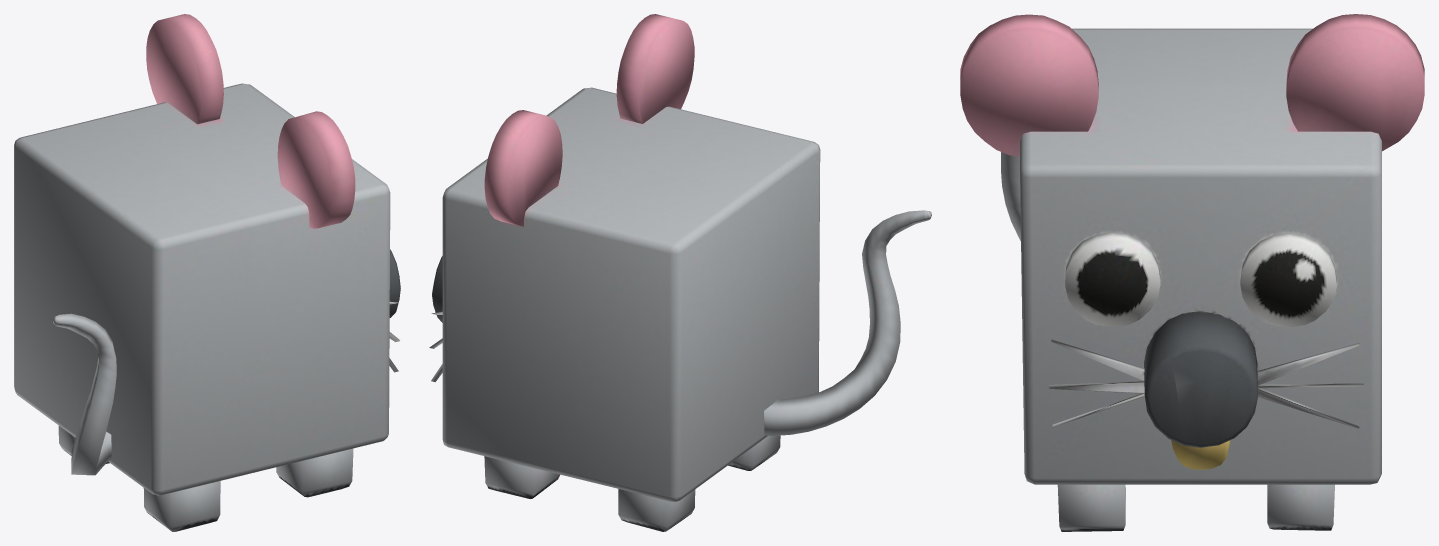
File: tripo_convert_c080552a-9220-4db1-a45e-d94be0dff369.fbx
3 views of the same model, side by side, from view 1: azimuth 30°, elevation 25°; view 2: azimuth 150°, elevation 25°; view 3: azimuth 270°, elevation 25° (orthographic). The views are drawn at different scales.
Parts seen in each view (by area): view 1: tripo_node_c080552a; view 2: tripo_node_c080552a; view 3: tripo_node_c080552a.
Part boxes in pixels (x1,y1,x2,y2): tripo_node_c080552a: (14, 14, 400, 531); tripo_node_c080552a: (429, 14, 931, 531); tripo_node_c080552a: (960, 14, 1424, 531).
Size of the model in its own units: 99.8 by 80.66 by 93.55.
